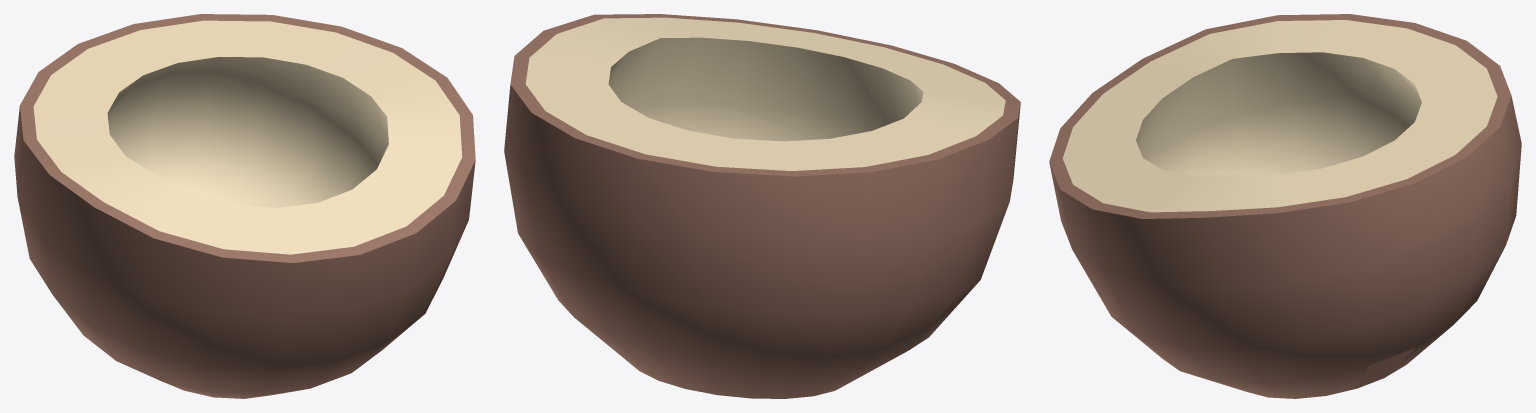
File: SM_Fruits_Coconut_4.fbx
The picture shows the model from 3 angles, left to right: view 1: azimuth 30°, elevation 25°; view 2: azimuth 150°, elevation 25°; view 3: azimuth 270°, elevation 25°; orthographic projection. The views are drawn at different scales.
Parts seen in each view (by area): view 1: SM_Fruits_Coconut_4; view 2: SM_Fruits_Coconut_4; view 3: SM_Fruits_Coconut_4.
Boxes of the visible parts, bbox=[...] form: SM_Fruits_Coconut_4: bbox=[14, 14, 475, 398]; SM_Fruits_Coconut_4: bbox=[504, 14, 1020, 398]; SM_Fruits_Coconut_4: bbox=[1049, 14, 1521, 398].
Size of the model in its own units: 16.24 by 10.49 by 16.37.
